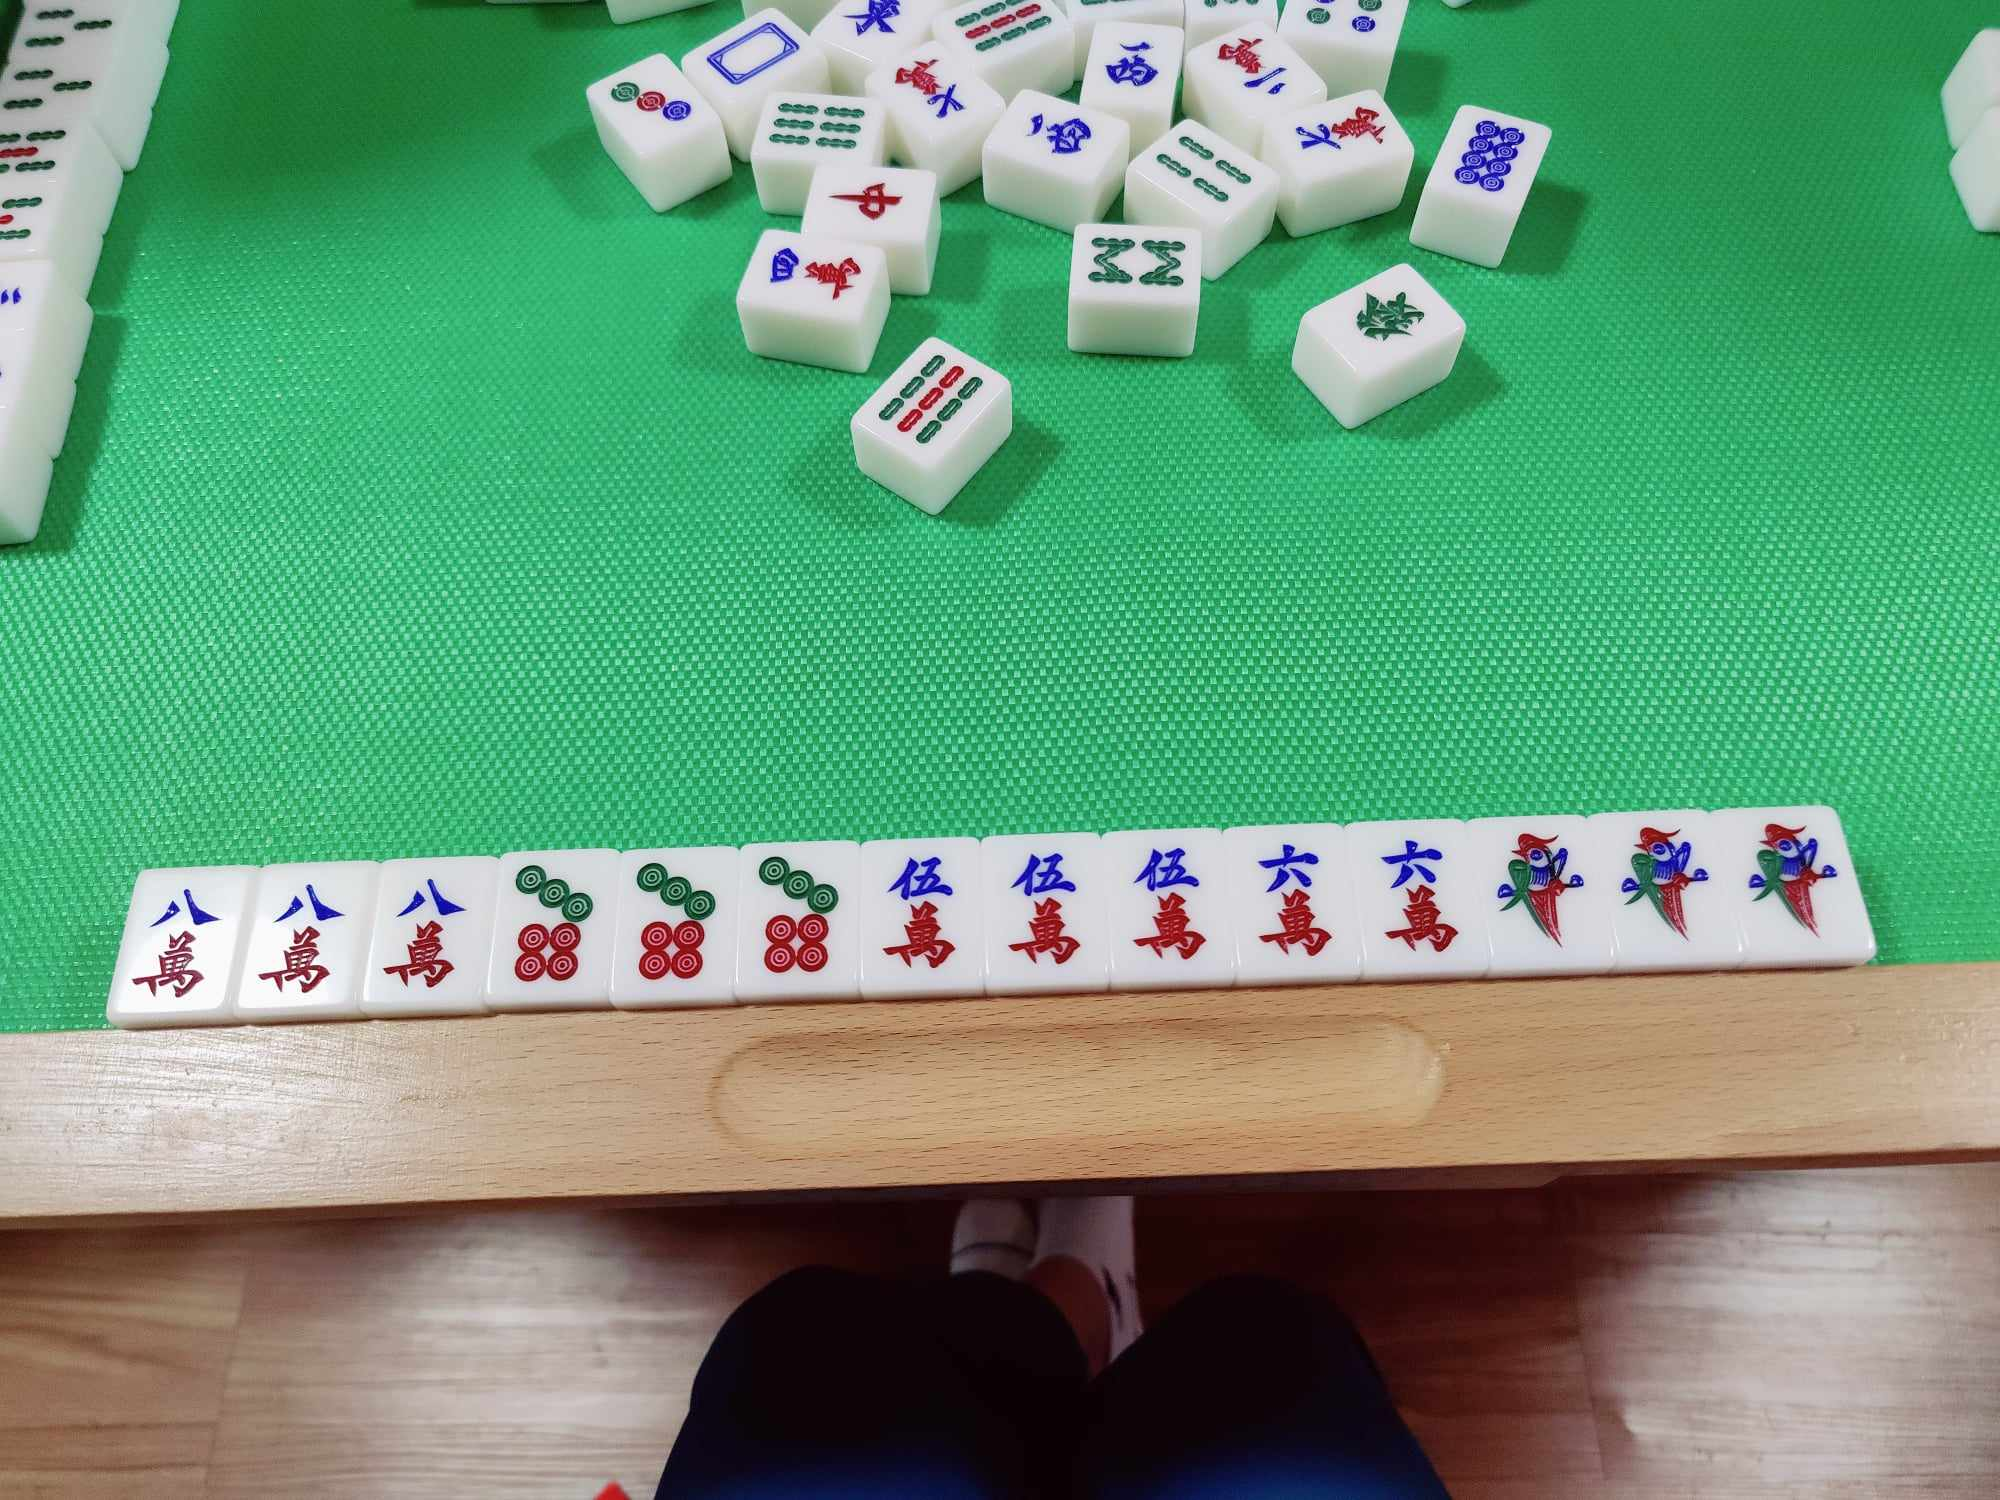bamboo-one: (1731, 815, 1850, 949), (1483, 824, 1594, 960), (1608, 818, 1713, 952)
character-eight: (132, 874, 228, 1015), (383, 871, 480, 1001), (255, 873, 348, 1007)
character-five: (991, 841, 1099, 978), (865, 845, 965, 985), (1113, 838, 1217, 967)
character-six: (1362, 829, 1471, 969), (1241, 834, 1348, 975)
circle-seven: (620, 852, 724, 994), (742, 852, 846, 991), (504, 859, 600, 1004)
